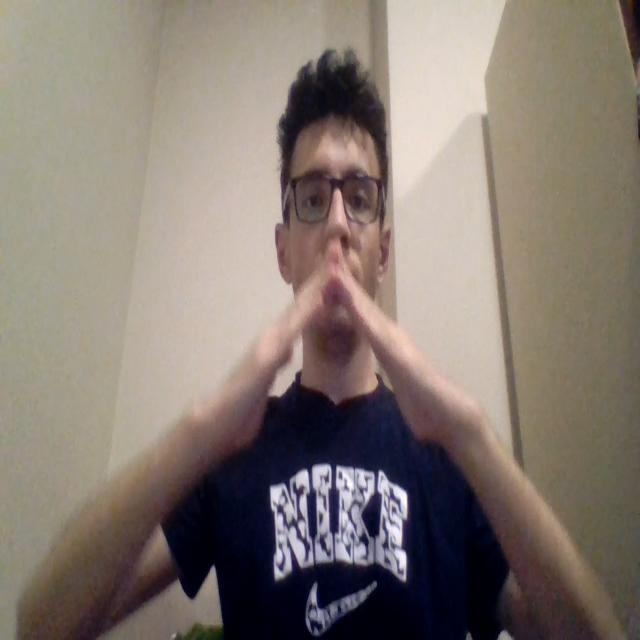house: (201, 250, 448, 440)
